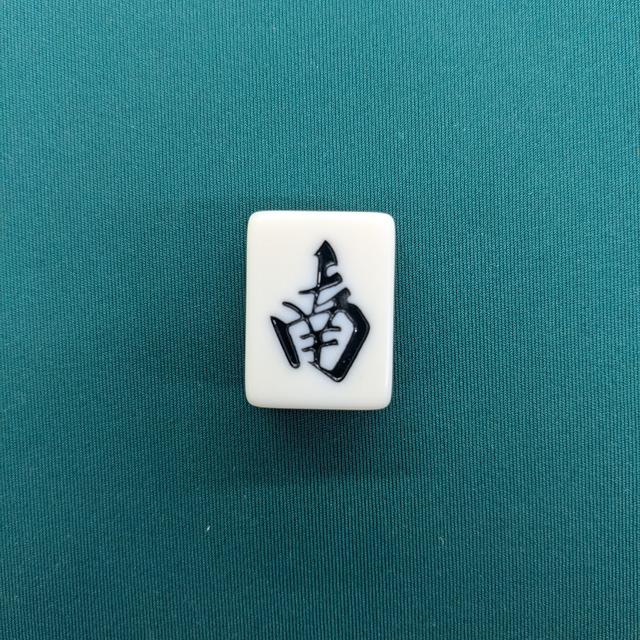minami: (245, 209, 395, 410)
